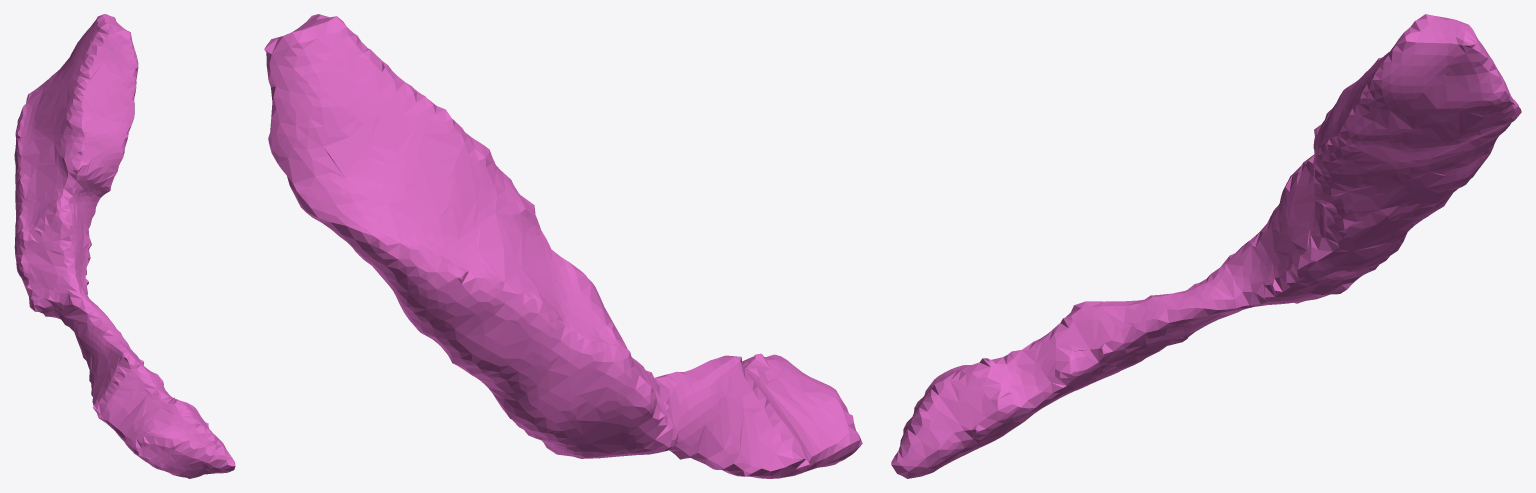
The model's file is Model_10095_LH__Insular_proisocortex_(IPro).obj.
The picture shows the model from 3 angles, left to right: view 1: azimuth 30°, elevation 25°; view 2: azimuth 150°, elevation 25°; view 3: azimuth 270°, elevation 25°; orthographic projection. The views are drawn at different scales.
Bounding box in the file's own units: 2.29 × 4.84 × 5.49.
